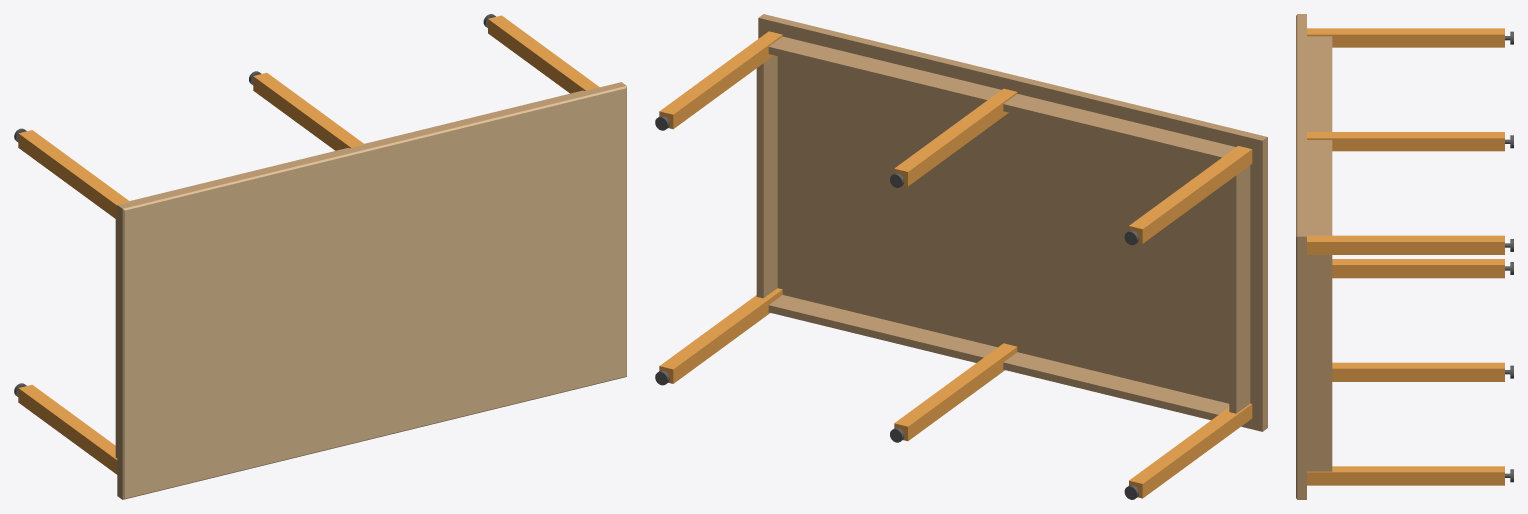
File: work_table_1450x800.glb
3 renders of one model, left to right at view 1: azimuth 30°, elevation 25°; view 2: azimuth 150°, elevation 25°; view 3: azimuth 270°, elevation 25°, orthographic. The views are drawn at different scales.
Parts seen in each view (by area): view 1: wood_top_face, orange_powder_coat, wood_top_edge; view 2: wood_top_edge, orange_powder_coat, foot_dark; view 3: orange_powder_coat, wood_top_edge, wood_top_face, foot_dark.
Part boxes in pixels (<box>): wood_top_face: <box>122,86,626,499</box>; orange_powder_coat: <box>18,15,599,474</box>; wood_top_edge: <box>115,82,626,499</box>; wood_top_edge: <box>756,14,1267,431</box>; orange_powder_coat: <box>659,31,1252,498</box>; foot_dark: <box>655,116,1138,499</box>; orange_powder_coat: <box>1307,28,1504,485</box>; wood_top_edge: <box>1297,14,1332,499</box>; wood_top_face: <box>1296,14,1297,499</box>; foot_dark: <box>1505,31,1513,482</box>.
Bounding box in the file's own units: 1.45 × 0.8 × 0.6.
